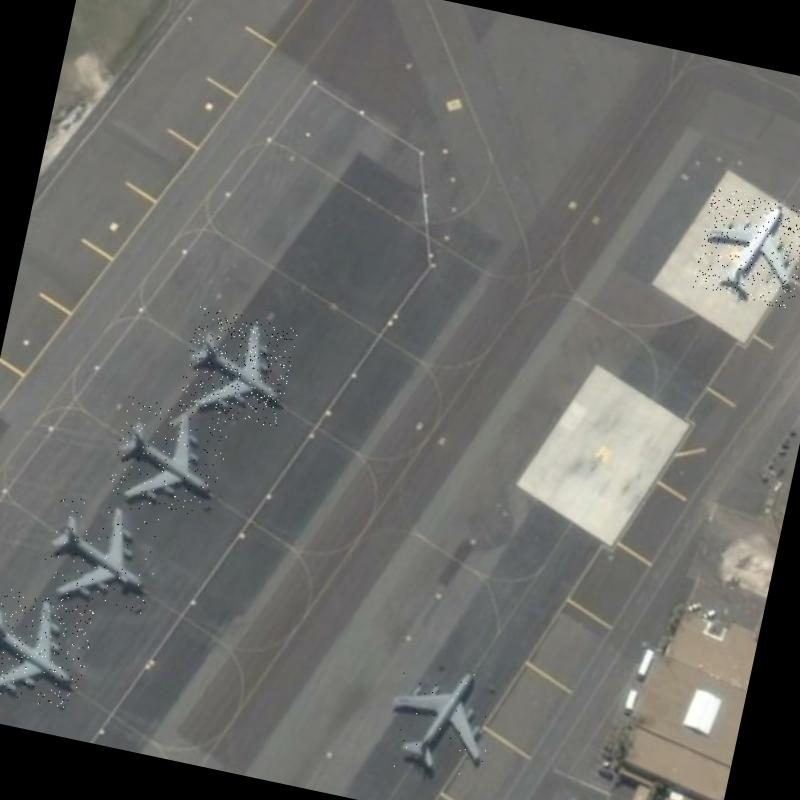A11: (691, 186, 800, 310)
A14: (376, 652, 502, 784), (38, 491, 167, 616), (106, 396, 234, 520), (177, 306, 300, 428), (0, 583, 97, 712)
